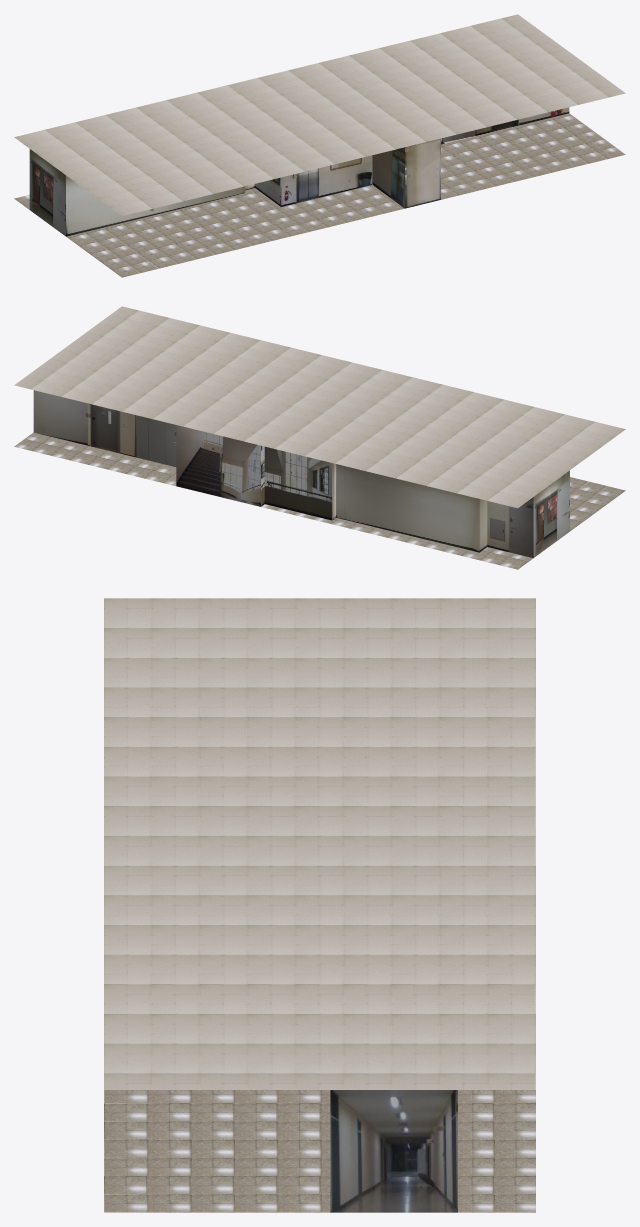
File: indoor2.fbx
3 views of the same model, one above another, from view 1: azimuth 30°, elevation 25°; view 2: azimuth 150°, elevation 25°; view 3: azimuth 270°, elevation 25° (orthographic). The views are drawn at different scales.
Parts seen in each view (by area): view 1: surface20, surface19, surface18, surface15, surface0, surface13, surface14, surface11, surface16; view 2: surface20, surface3, surface19, surface9, surface7, surface5, surface1, surface0, surface2; view 3: surface20, surface19, surface10.
Part boxes in pixels (x1,y1,x2,y2): surface20: (14, 14, 625, 216); surface19: (14, 113, 625, 277); surface18: (66, 175, 245, 236); surface15: (281, 155, 372, 206); surface0: (29, 149, 65, 236); surface13: (405, 138, 440, 208); surface14: (372, 147, 404, 208); surface11: (441, 107, 569, 144); surface16: (255, 177, 280, 206); surface20: (14, 306, 625, 508); surface3: (336, 464, 479, 552); surface19: (14, 432, 625, 569); surface9: (33, 390, 176, 466); surface7: (176, 425, 260, 506); surface5: (264, 446, 332, 520); surface1: (487, 497, 533, 558); surface0: (533, 470, 569, 557); surface2: (479, 499, 487, 551); surface20: (104, 598, 535, 1089); surface19: (104, 1090, 535, 1212); surface10: (330, 1090, 457, 1212).
Bounding box in the file's own units: 87992 × 10236 × 32677.
Materials: 20 (20 with a texture image).
